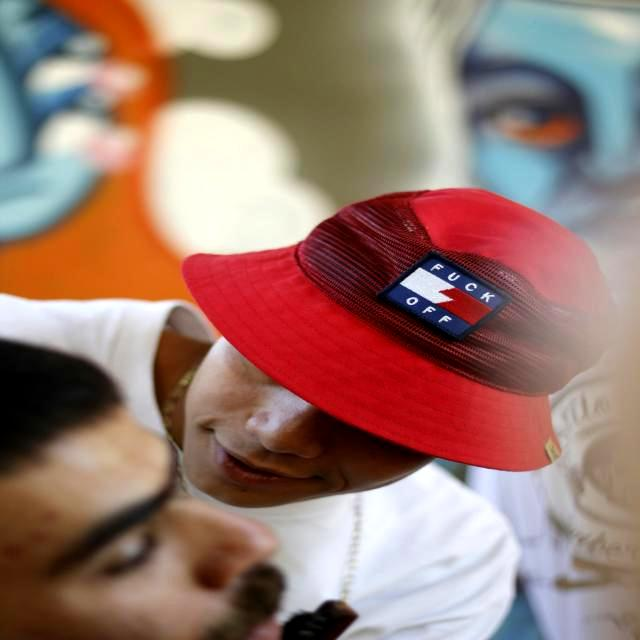no_hard_hat: (182, 189, 612, 471)
no_head_wear: (0, 340, 123, 475)
person: (3, 189, 611, 640), (0, 339, 356, 640)
